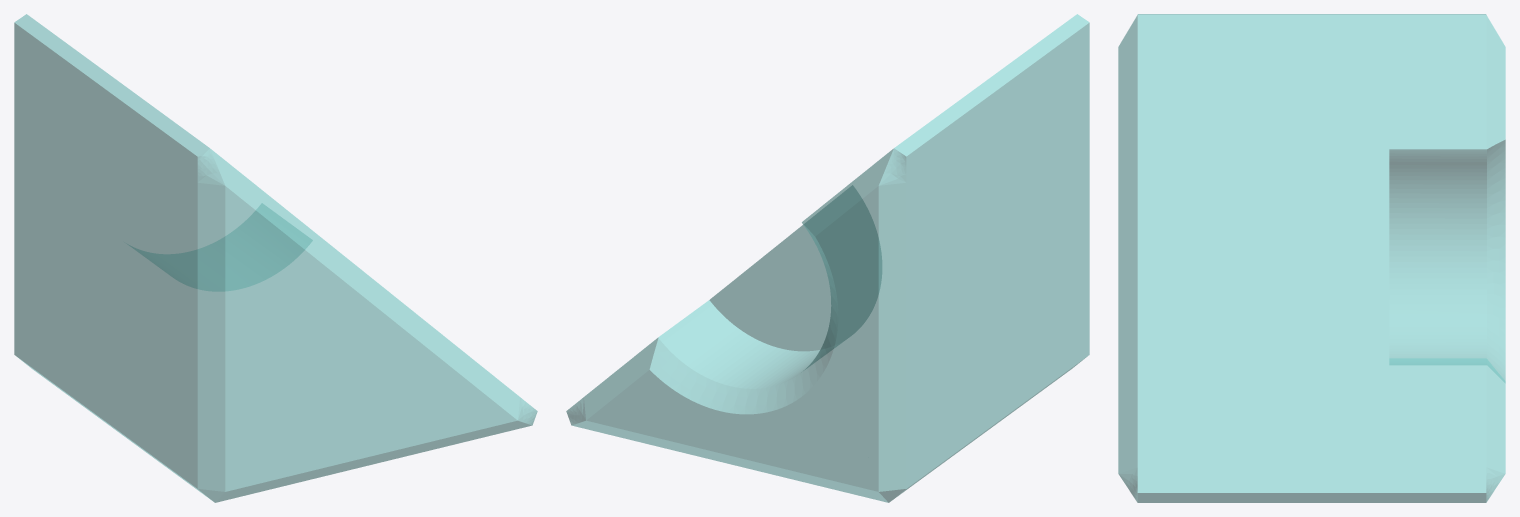
Rendered from half-crystal@crystal.glb.
3 views of the same model, side by side, from view 1: azimuth 30°, elevation 25°; view 2: azimuth 150°, elevation 25°; view 3: azimuth 270°, elevation 25° (orthographic). The views are drawn at different scales.
Visible parts, largest first — view 1: geometry_0; view 2: geometry_0; view 3: geometry_0.
Part boxes in pixels (x1,y1,x2,y2): geometry_0: [14, 14, 537, 502]; geometry_0: [566, 14, 1089, 502]; geometry_0: [1118, 14, 1505, 502].
Bounding box in the file's own units: 5.79 × 5.79 × 6.
